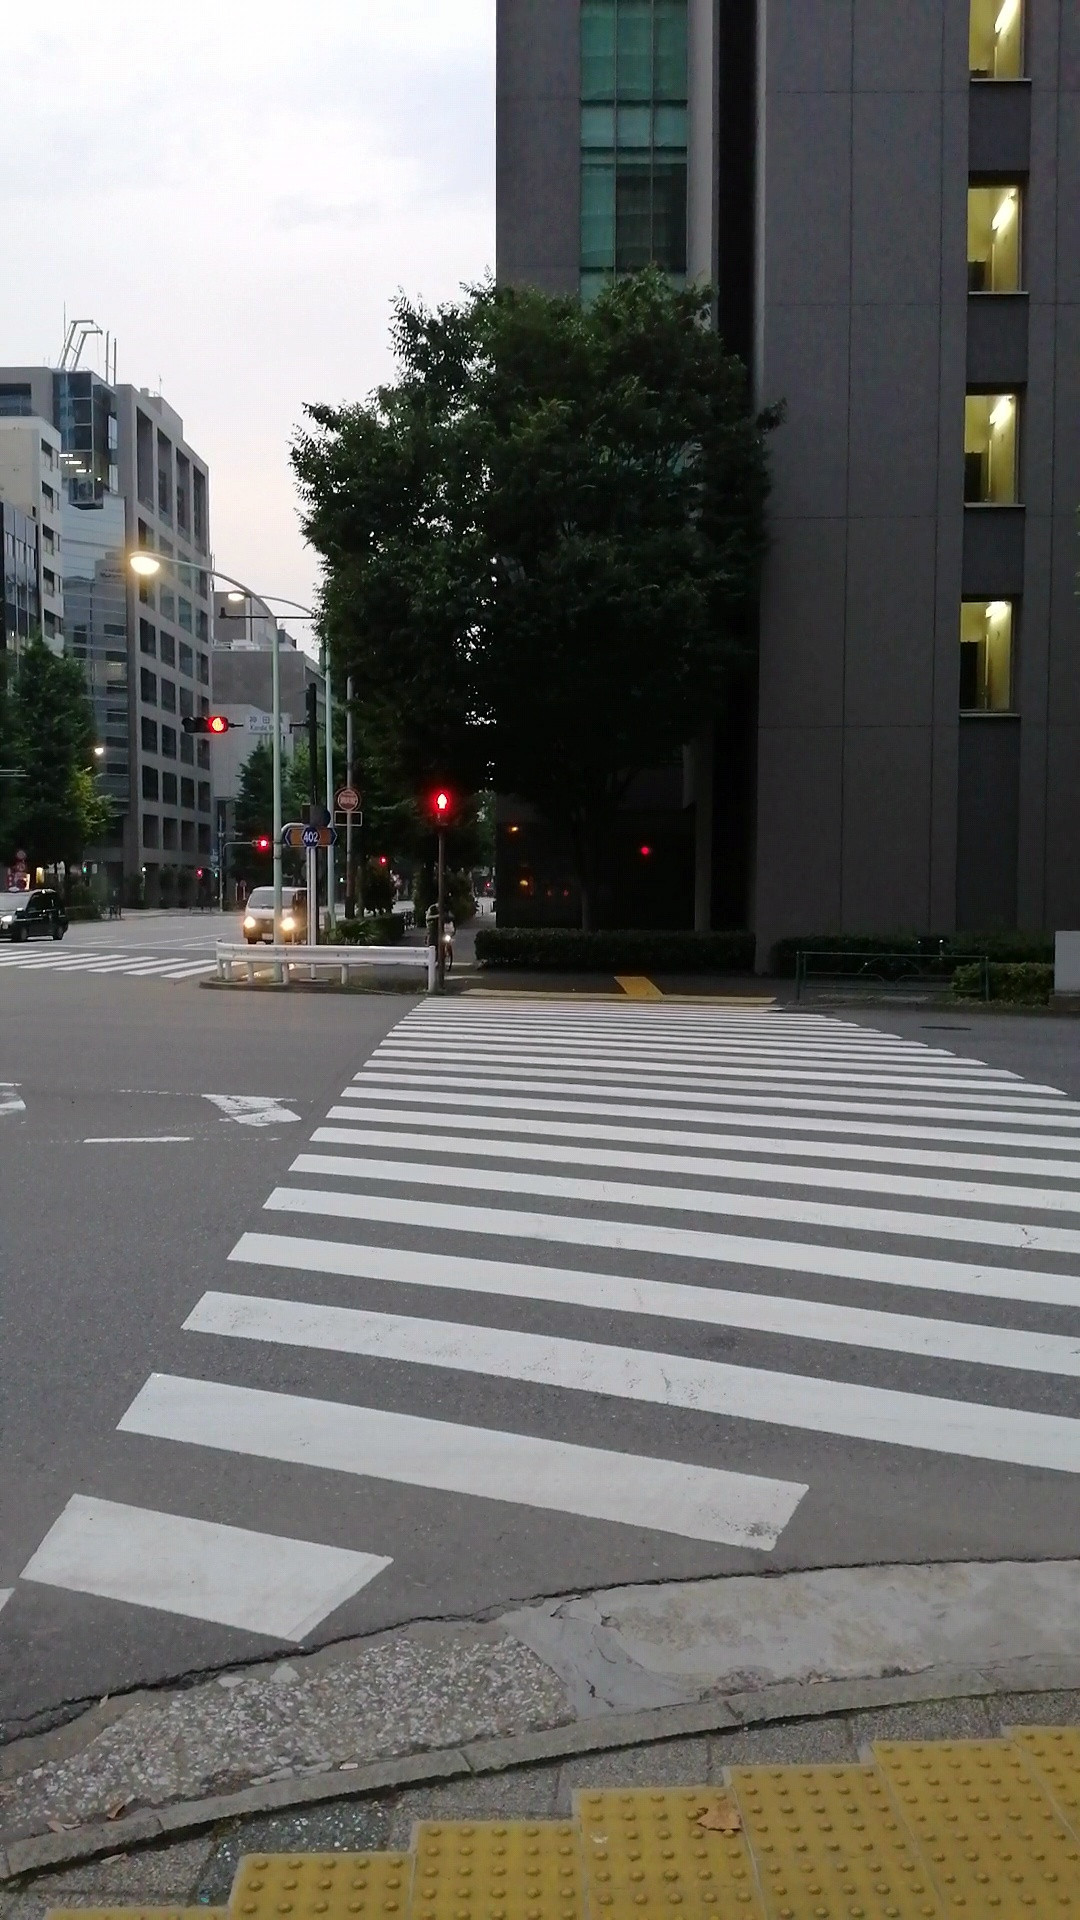red: (427, 783, 456, 833)
